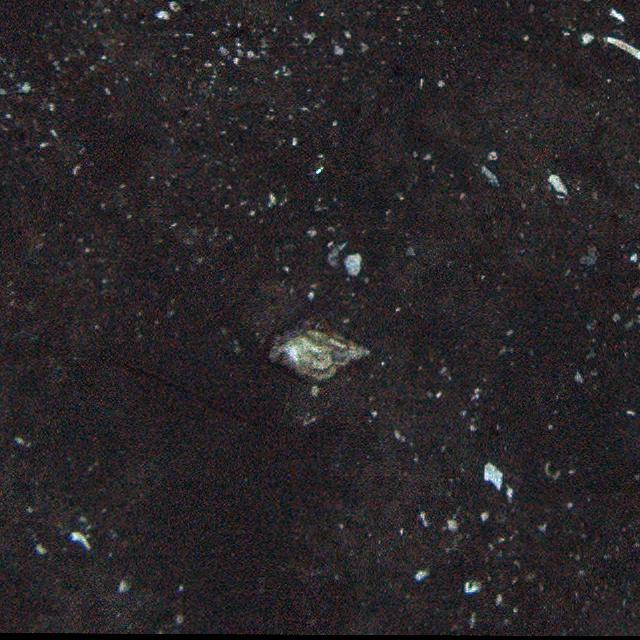whelk: (273, 320, 373, 381)
